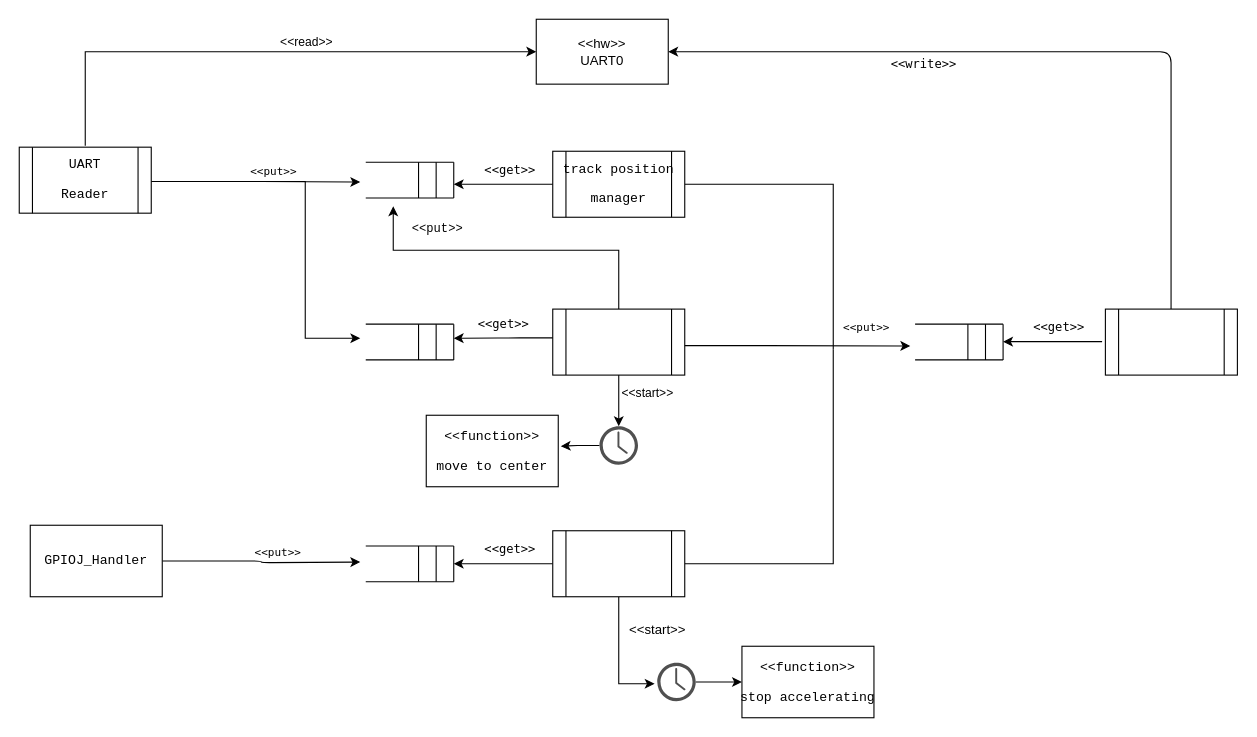
Image size: 1257x737. Some labels were removed from this diagram. Here are the shapes that lost their labels. From the top down, the centre of each, then its label:
At point 618,341: "obstacle watcher".
At point 1170,341: "UART Writer".
At point 618,563: "speed controller".
